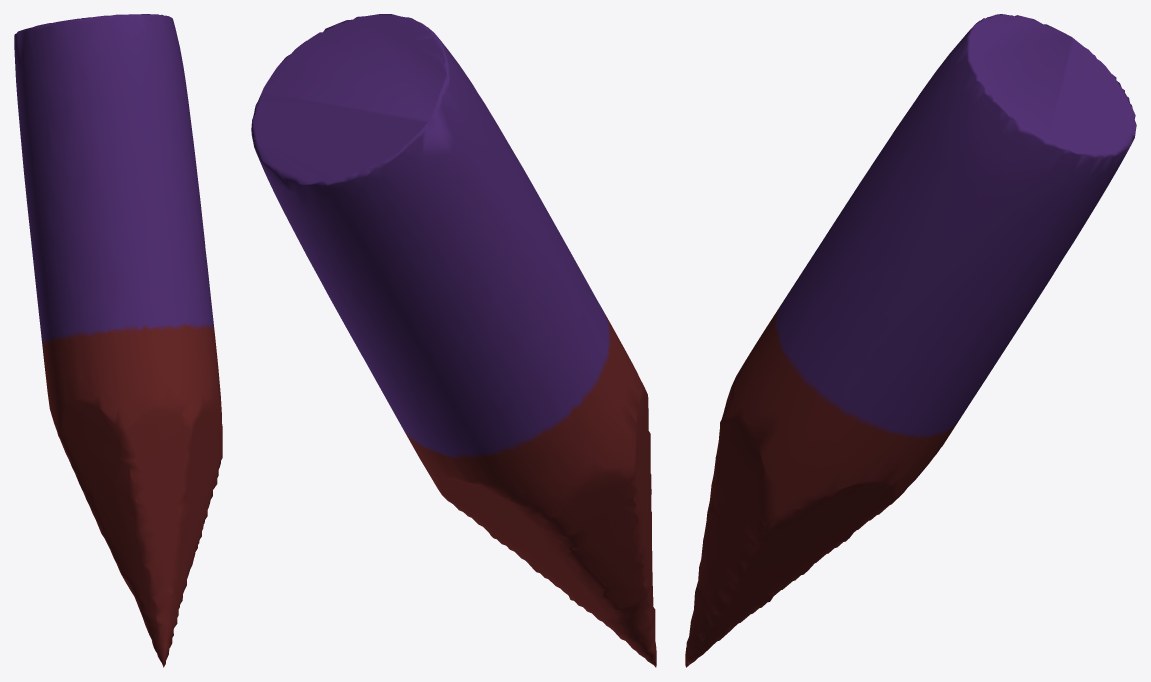
The model's file is Bullet.fbx.
3 renders of one model, left to right at view 1: azimuth 30°, elevation 25°; view 2: azimuth 150°, elevation 25°; view 3: azimuth 270°, elevation 25°, orthographic. The views are drawn at different scales.
Parts seen in each view (by area): view 1: Layer_1; view 2: Layer_1; view 3: Layer_1.
Part boxes in pixels (x1=…): Layer_1: x1=14, y1=14, x2=222, y2=667; Layer_1: x1=251, y1=14, x2=656, y2=667; Layer_1: x1=685, y1=14, x2=1136, y2=667.
Size of the model in its own units: 0.3953 by 0.6577 by 1.09.
